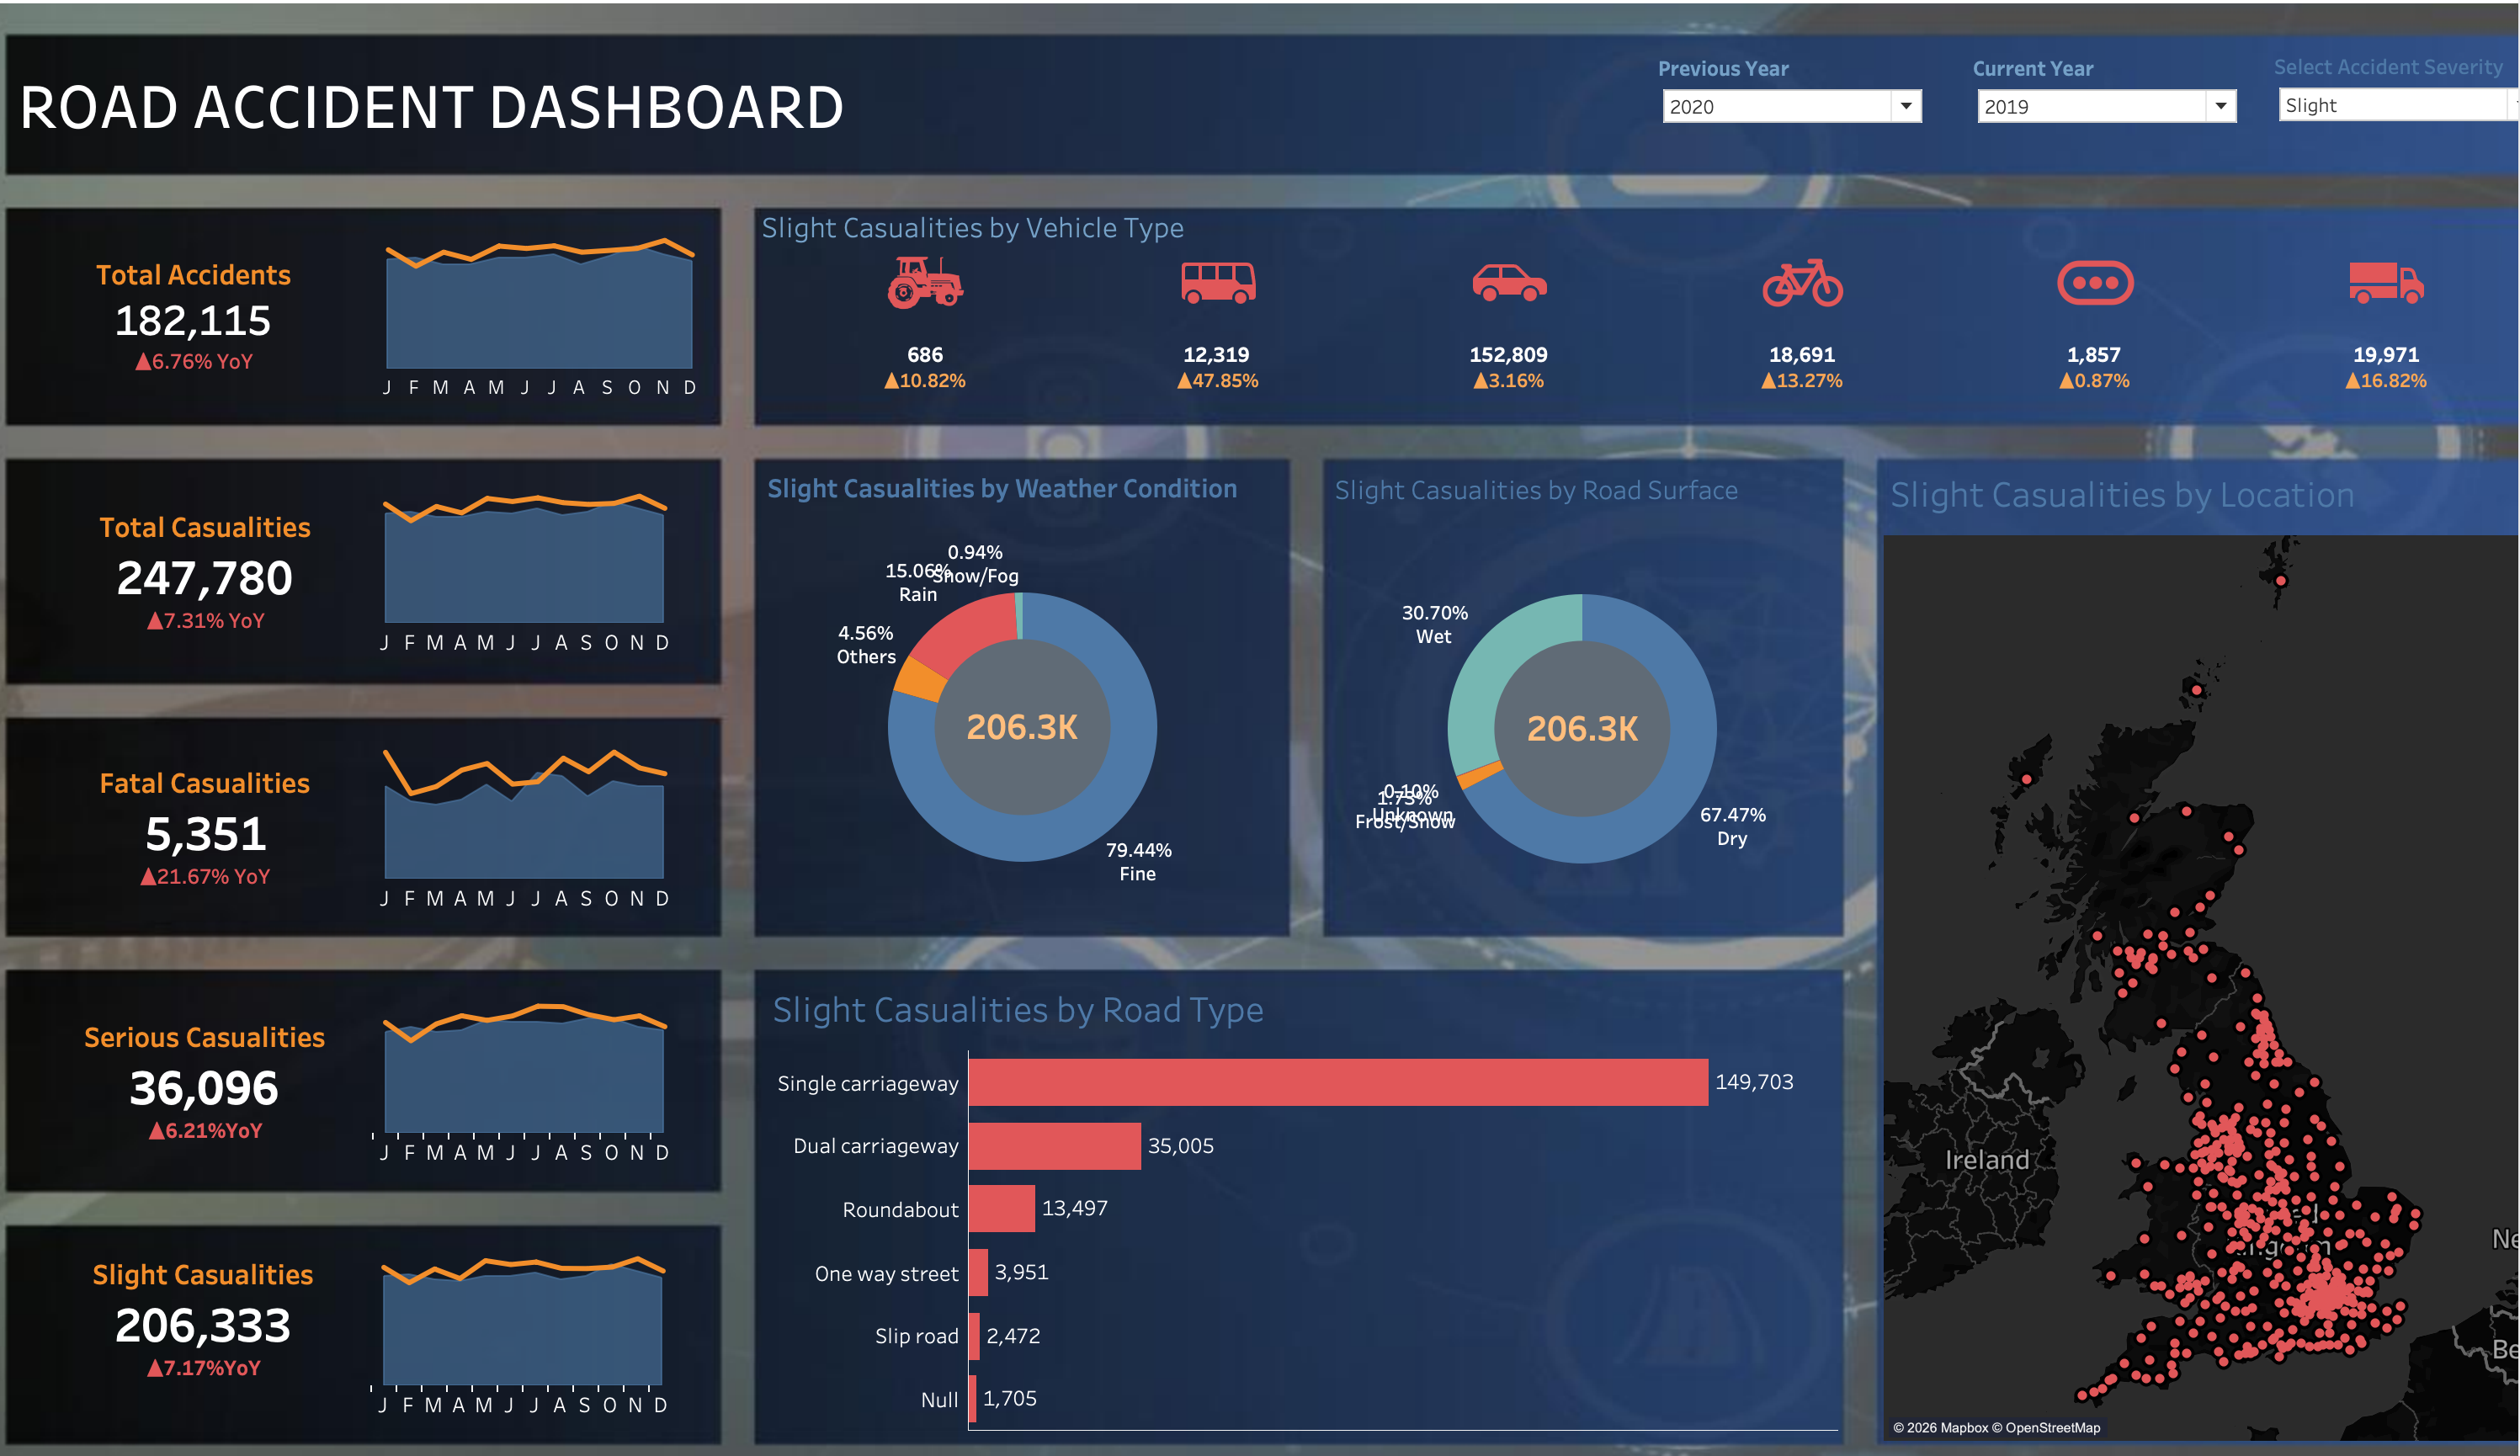

What the dashboard file says about the page in this screenshot:
{"tool":"tableau","page":{"name":"Dashboard 1","canvas":[1600,900],"ordinal":0},"visuals":[{"type":"image","param":"Image/Background.pptx.jpg","box":[8,8,1584,884]},{"type":"text","box":[44,38,570,67]},{"type":"parameter","param":"[Parameters].[Parameter 2]","box":[1387,41,160,52]},{"type":"parameter","param":"[Parameters].[Current Year (copy)_1022815884025858]","box":[1021,42,160,44]},{"type":"parameter","param":"[Parameters].[Parameter 1]","box":[1208,42,160,54]},{"type":"text","box":[486,131,292,28]},{"type":"worksheet","title":"Total Accidents","mark":"Automatic","box":[49,143,205,110]},{"type":"worksheet","title":"Accident Sparkline","mark":"Automatic","rows":["CY Accidents (copy)_1022815885787140","Calculation_1022815884242947"],"cols":["Accident Date"],"box":[254,143,205,110]},{"type":"worksheet","title":"Vehicle Type","mark":"Shape","box":[495,148,1050,55]},{"type":"worksheet","title":"Vehicle Type KPI","mark":"Automatic","box":[495,203,1050,55]},{"type":"worksheet","title":"Weather Condition","mark":"Pie","rows":["Calculation_0074899472543745","Calculation_0074899472568323"],"box":[488,285,311,278]},{"type":"worksheet","title":"By Location","mark":"Automatic","rows":["Latitude"],"cols":["Longitude"],"box":[1155,285,401,581]},{"type":"worksheet","title":"Road Surface","mark":"Pie","rows":["Calculation_0074899472543745","Calculation_0074899472568323"],"box":[825,286,302,278]},{"type":"worksheet","title":"Total Casualities","mark":"Automatic","box":[64,295,189,110]},{"type":"worksheet","title":"Casualities Sparkline ","mark":"Automatic","rows":["CY Casualities (copy)_1022815889838087","Calculation_1022815889170438"],"cols":["Accident Date"],"box":[253,295,189,110]},{"type":"worksheet","title":"Fatal Casualities ","mark":"Automatic","box":[64,447,189,110]},{"type":"worksheet","title":"Fatal Sparkline","mark":"Automatic","rows":["CY Fatal Casualities (copy)_1022815891611658","Calculation_1022815890894857"],"cols":["Accident Date"],"box":[253,447,189,110]},{"type":"worksheet","title":"Road Type","mark":"Automatic","rows":["Road_Type"],"cols":["Calculation_1022815889170438"],"box":[491,591,637,269]},{"type":"worksheet","title":"Serious Casualities ","mark":"Automatic","box":[64,598,189,110]},{"type":"worksheet","title":"Serious Sparkline","mark":"Automatic","rows":["CY Serious Casualities (copy)_1022815892312077","CY Fatal Casualities (copy)_1022815892189196"],"cols":["Accident Date"],"box":[253,598,189,110]},{"type":"worksheet","title":"Slight Casualities ","mark":"Automatic","box":[63,748,189,110]},{"type":"worksheet","title":"Slight Sparkline ","mark":"Automatic","rows":["PY Serious Casualities  (copy)_1022815893442576","CY Serious Casualities (copy)_1022815893340175"],"cols":["Accident Date"],"box":[252,748,189,110]}]}

Visuals, with their boxes in screenshot pixels (x1, y1, x2, y2), scaled from the page's 1600x900 canvas onto the 2520x1456 screenshot:
image: [left=13, top=13, right=2507, bottom=1443]
text: [left=69, top=61, right=967, bottom=170]
parameter: [left=2184, top=66, right=2437, bottom=151]
parameter: [left=1608, top=68, right=1860, bottom=139]
parameter: [left=1902, top=68, right=2155, bottom=156]
text: [left=765, top=212, right=1225, bottom=258]
"Total Accidents" worksheet: [left=77, top=231, right=400, bottom=409]
"Accident Sparkline" worksheet: [left=400, top=231, right=723, bottom=409]
"Vehicle Type" worksheet (Shape marks): [left=779, top=239, right=2433, bottom=328]
"Vehicle Type KPI" worksheet: [left=779, top=328, right=2433, bottom=417]
"Weather Condition" worksheet (Pie marks): [left=768, top=461, right=1258, bottom=911]
"By Location" worksheet: [left=1819, top=461, right=2451, bottom=1401]
"Road Surface" worksheet (Pie marks): [left=1300, top=463, right=1775, bottom=912]
"Total Casualities" worksheet: [left=101, top=477, right=398, bottom=655]
"Casualities Sparkline " worksheet: [left=398, top=477, right=696, bottom=655]
"Fatal Casualities " worksheet: [left=101, top=723, right=398, bottom=901]
"Fatal Sparkline" worksheet: [left=398, top=723, right=696, bottom=901]
"Road Type" worksheet: [left=774, top=956, right=1777, bottom=1391]
"Serious Casualities " worksheet: [left=101, top=967, right=398, bottom=1145]
"Serious Sparkline" worksheet: [left=398, top=967, right=696, bottom=1145]
"Slight Casualities " worksheet: [left=99, top=1210, right=397, bottom=1388]
"Slight Sparkline " worksheet: [left=397, top=1210, right=694, bottom=1388]
